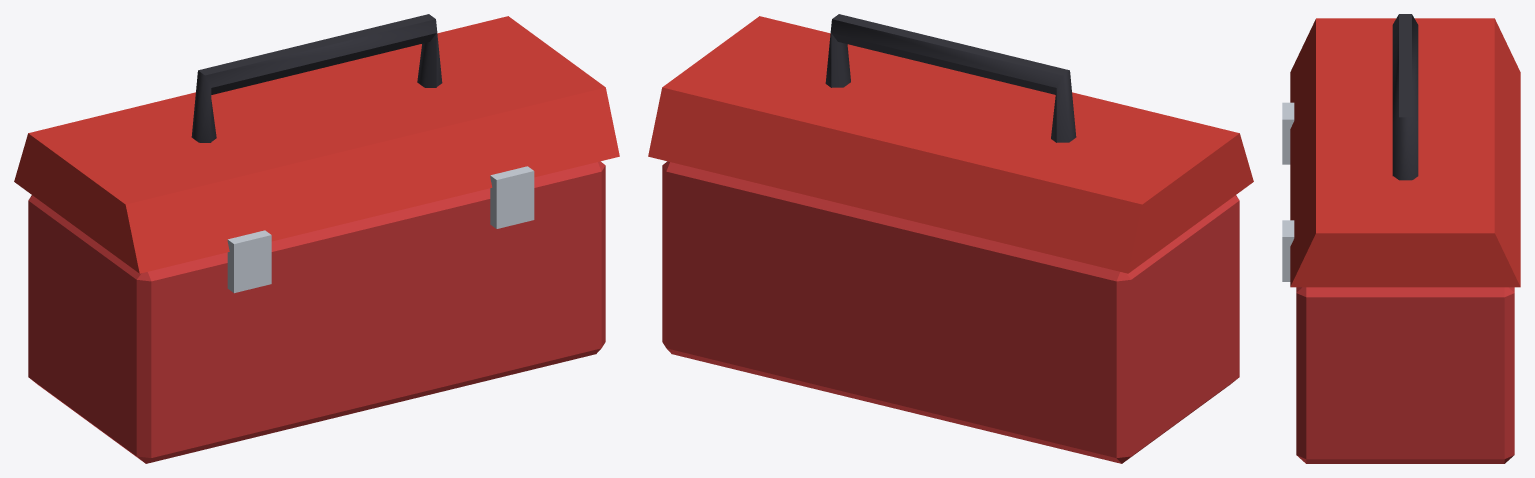
Rendered from toolbox-pixor.glb.
The picture shows the model from 3 angles, left to right: view 1: azimuth 30°, elevation 25°; view 2: azimuth 150°, elevation 25°; view 3: azimuth 270°, elevation 25°; orthographic projection. The views are drawn at different scales.
Visible parts, largest first — view 1: Toolbox body, Toolbox lid, Toolbox handle, Toolbox latches; view 2: Toolbox body, Toolbox lid, Toolbox handle; view 3: Toolbox lid, Toolbox body, Toolbox handle, Toolbox latches.
Boxes of the visible parts, bbox=[...] form: Toolbox body: bbox=[28, 161, 605, 463]; Toolbox lid: bbox=[14, 16, 619, 273]; Toolbox handle: bbox=[191, 14, 442, 142]; Toolbox latches: bbox=[227, 166, 534, 293]; Toolbox body: bbox=[662, 161, 1239, 463]; Toolbox lid: bbox=[648, 16, 1253, 273]; Toolbox handle: bbox=[825, 14, 1076, 142]; Toolbox lid: bbox=[1290, 18, 1520, 287]; Toolbox body: bbox=[1296, 287, 1514, 463]; Toolbox handle: bbox=[1392, 14, 1418, 180]; Toolbox latches: bbox=[1282, 102, 1294, 281].
Size of the model in its own units: 0.512 by 0.3308 by 0.24.
